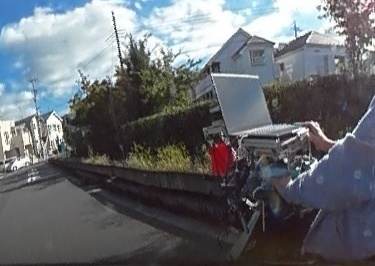person: (280, 1, 375, 252)
